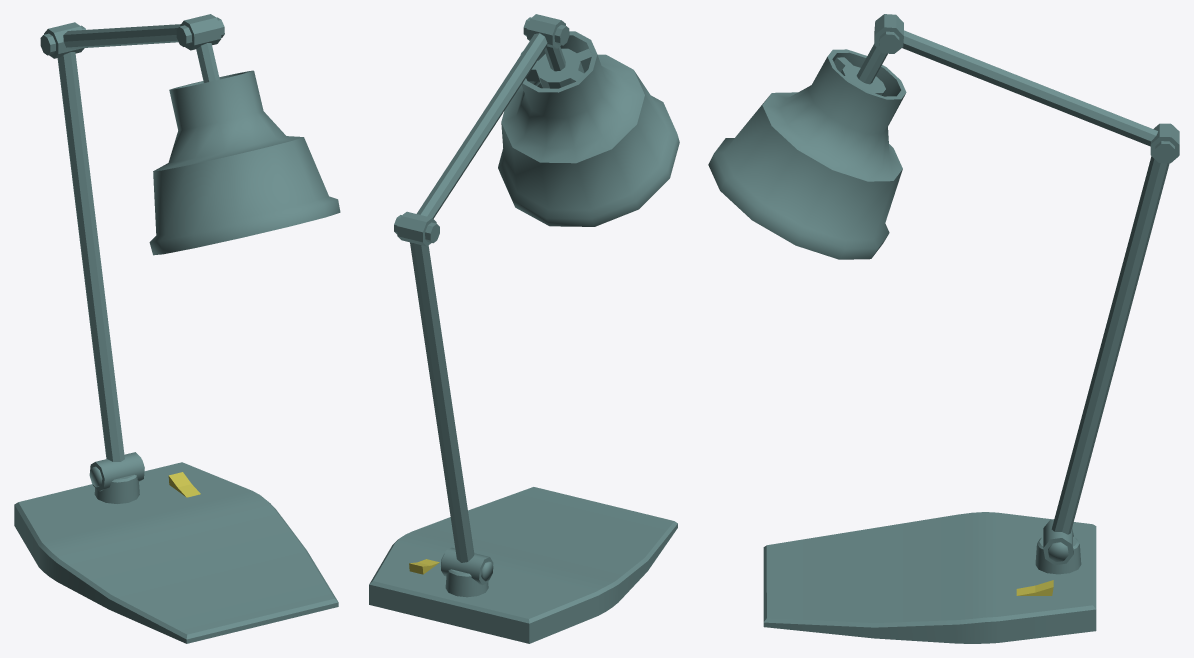
The model's file is Lamp_Model.fbx.
3 views of the same model, side by side, from view 1: azimuth 30°, elevation 25°; view 2: azimuth 150°, elevation 25°; view 3: azimuth 270°, elevation 25° (orthographic). The views are drawn at different scales.
Visible parts, largest first — view 1: LampDetail4, polySurface2, LampDetail3, LampDetail2, LampDetail5; view 2: LampDetail4, polySurface2, LampDetail3, LampDetail2; view 3: LampDetail4, polySurface2, LampDetail3, LampDetail2.
Part boxes in pixels (x1,y1,x2,y2): LampDetail4: [14, 462, 338, 643]; polySurface2: [149, 14, 340, 255]; LampDetail3: [57, 52, 144, 491]; LampDetail2: [40, 22, 180, 58]; LampDetail5: [168, 472, 200, 497]; LampDetail4: [369, 487, 677, 643]; polySurface2: [498, 14, 679, 226]; LampDetail3: [410, 242, 493, 585]; LampDetail2: [394, 33, 547, 246]; LampDetail4: [763, 512, 1096, 643]; polySurface2: [708, 14, 906, 259]; LampDetail3: [1043, 156, 1169, 565]; LampDetail2: [902, 30, 1179, 163].
Bounding box in the file's own units: 23.5 × 57.17 × 42.95.
